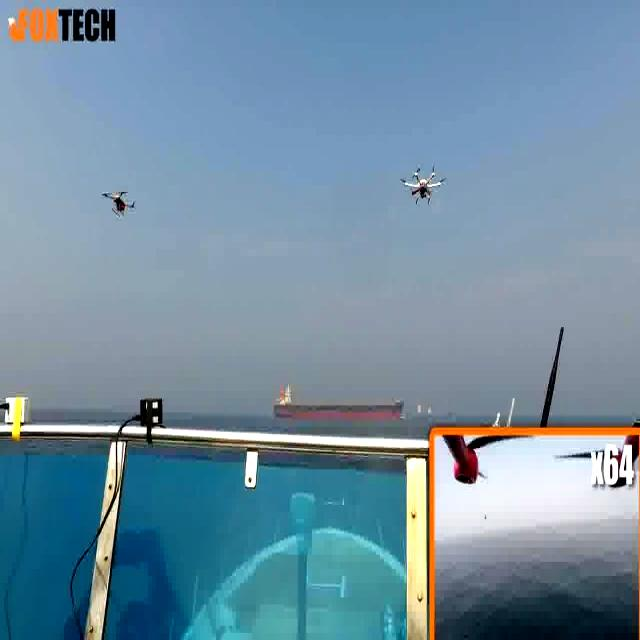drone: (398, 163, 448, 212), (99, 184, 138, 227)
